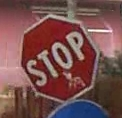stop: (17, 11, 98, 107)
